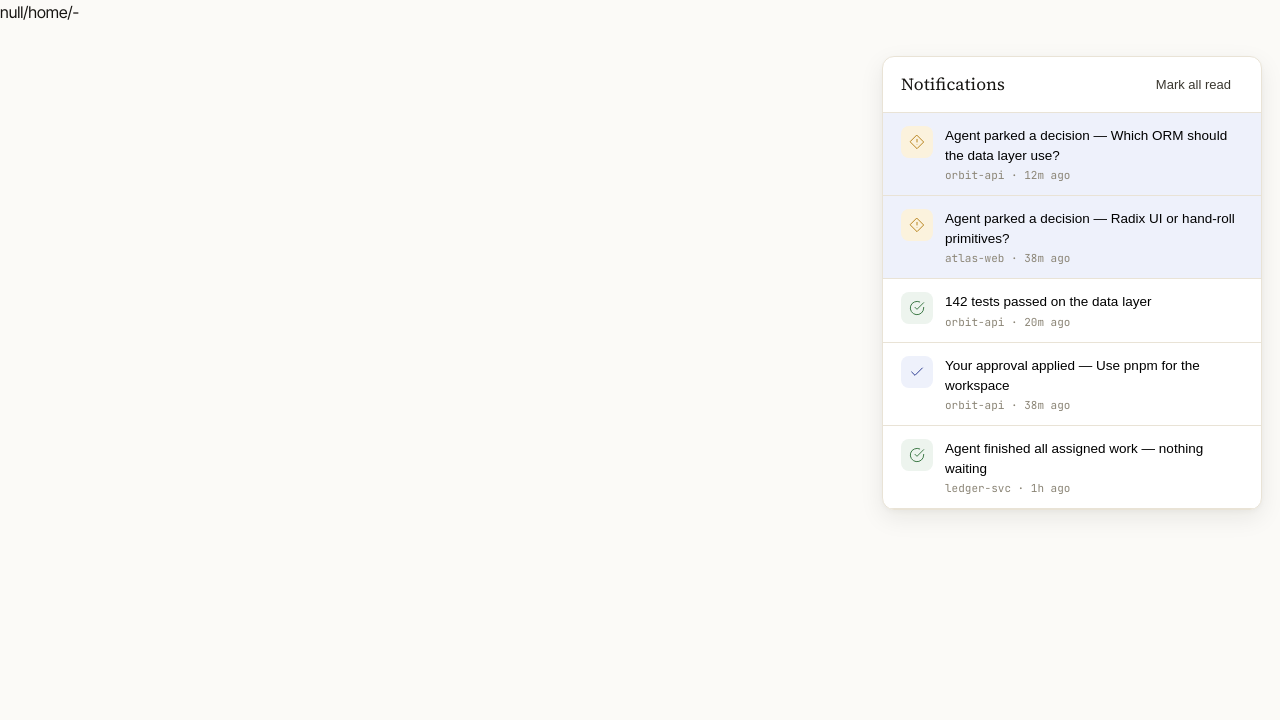
Test: NotificationsPanel › routes a view notification to that view
Click the button "142 tests passed on the data layer orbit-api · 20m ago". click: [1072, 311]
box: [883, 279, 1261, 343]
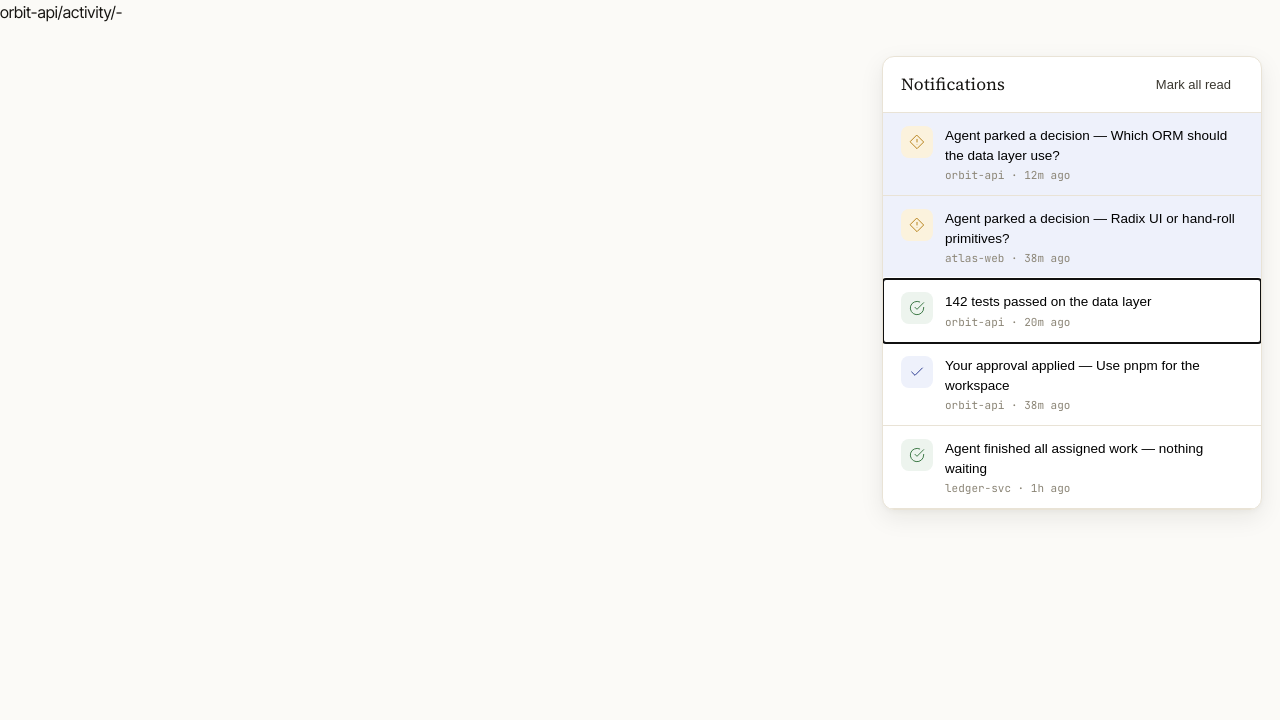
Result: the text with test id "nav" reads "orbit-api/activity/-" at [0, 2, 122, 22]
